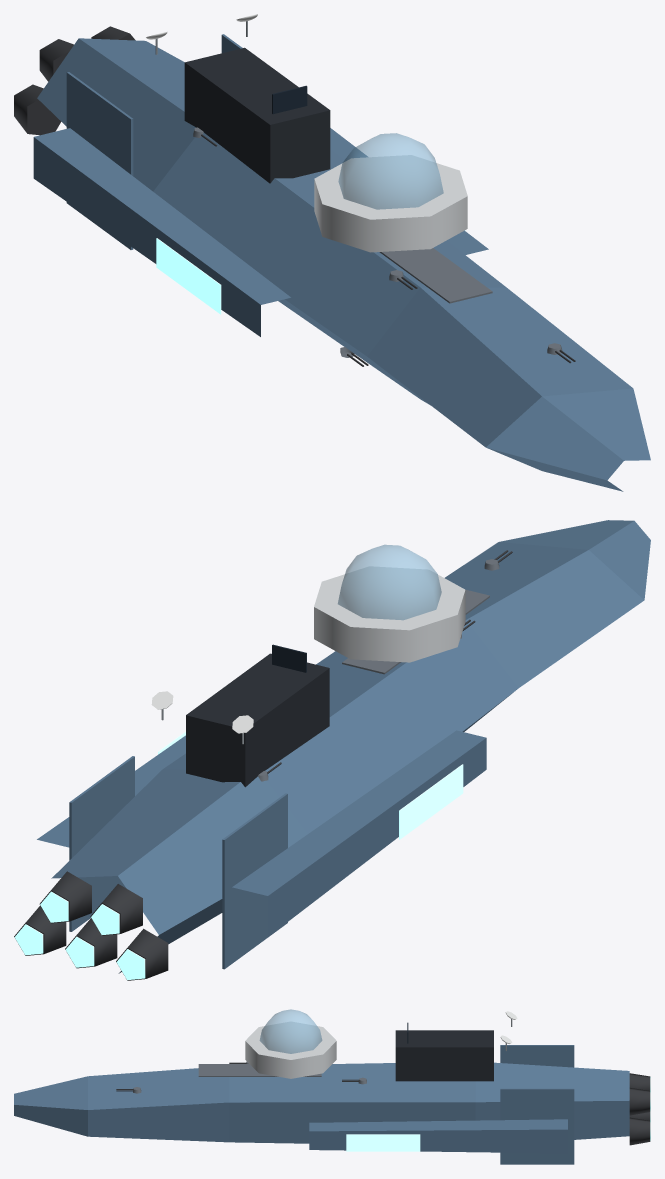
Rendered from space_ship_command_ship_mk5_lod1.glb.
3 views of the same model, one above another, from view 1: azimuth 30°, elevation 25°; view 2: azimuth 150°, elevation 25°; view 3: azimuth 270°, elevation 25° (orthographic). The views are drawn at different scales.
Visible parts, largest first — view 1: body, hangar_r, engine_0, engine_1; view 2: body, hangar_r, engine_0, engine_1, engine_3, engine_2, engine_4; view 3: body, hangar_l, engine_3, engine_4, engine_1.
Part boxes in pixels (left/top/right/bottom): body: left=33, top=34, right=650, bottom=491; hangar_r: left=156, top=238, right=221, bottom=314; engine_0: left=14, top=84, right=61, bottom=135; engine_1: left=39, top=39, right=73, bottom=81; body: left=37, top=520, right=650, bottom=973; hangar_r: left=399, top=764, right=463, bottom=839; engine_0: left=116, top=928, right=168, bottom=980; engine_1: left=90, top=884, right=142, bottom=935; engine_3: left=39, top=871, right=91, bottom=923; engine_2: left=65, top=918, right=117, bottom=968; engine_4: left=14, top=905, right=66, bottom=955; body: left=14, top=1009, right=629, bottom=1164; hangar_l: left=346, top=1134, right=420, bottom=1151; engine_3: left=629, top=1088, right=650, bottom=1115; engine_4: left=629, top=1117, right=650, bottom=1145; engine_1: left=629, top=1073, right=650, bottom=1091.
Size of the model in its own units: 31.34 by 27.65 by 123.
